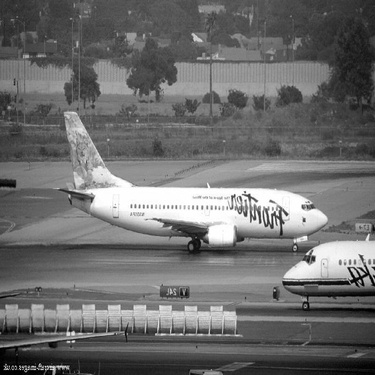airplane: (45, 102, 334, 264), (271, 221, 372, 317)
